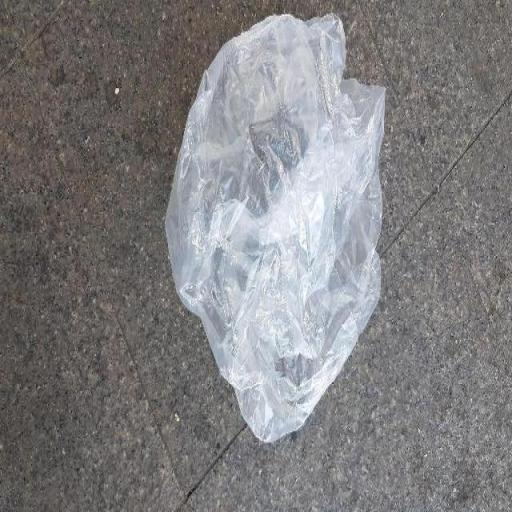plastic-bag: (162, 12, 388, 442)
